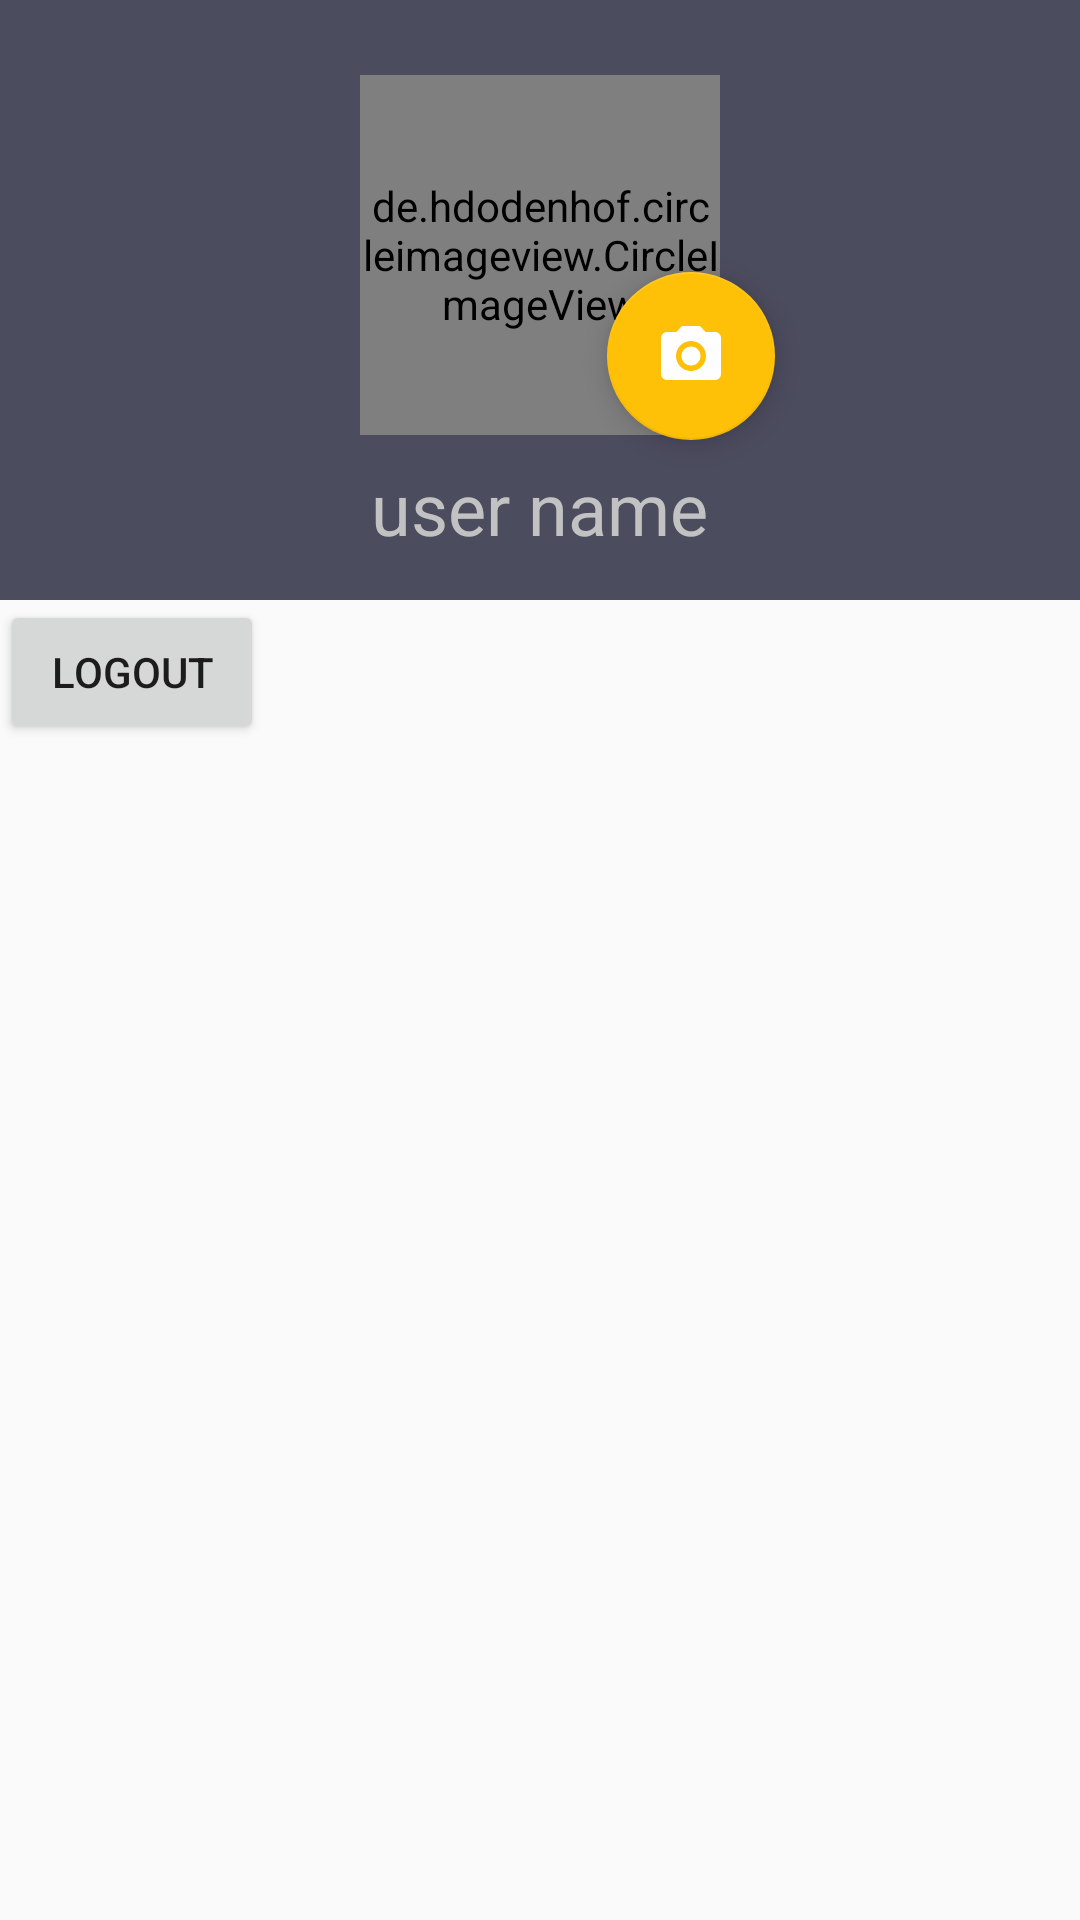

Where to tap for icons on this 1080x1920 app screen, as point (x, y):
camera: point (691, 356)
